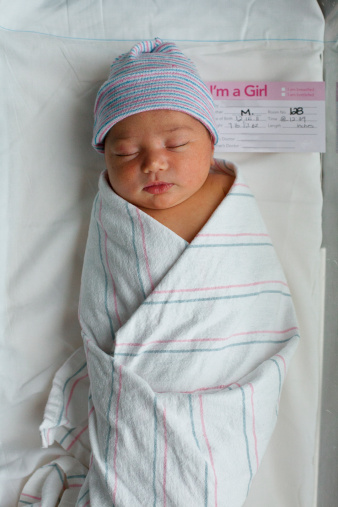deitado: (15, 60, 306, 507)
